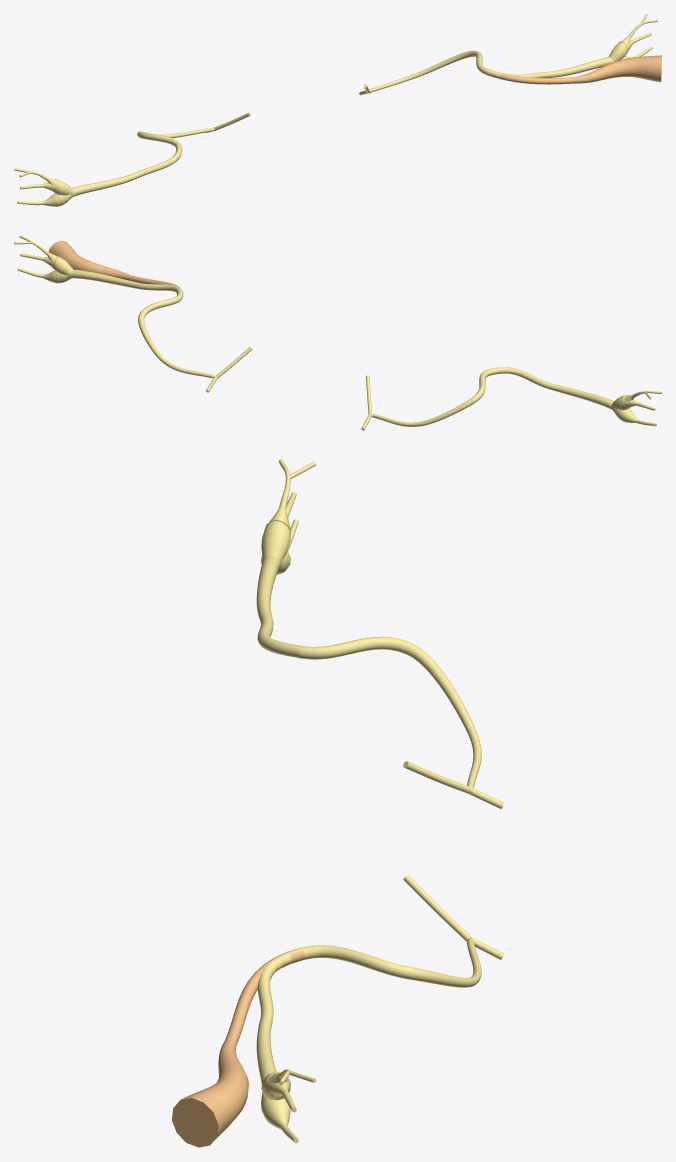
File: vestibular-context-balanced.glb
The picture shows the model from 3 angles, top to bottom: view 1: azimuth 30°, elevation 25°; view 2: azimuth 150°, elevation 25°; view 3: azimuth 270°, elevation 25°; orthographic projection. The views are drawn at different scales.
Visible parts, largest first — view 1: za.cochlear-nerve-l, za.vestibular-nerve-r, za.vestibular-nerve-l, nerve.cn08.source-group.l, nerve.cn08.source-group.r; view 2: za.vestibular-nerve-l, za.vestibular-nerve-r, za.cochlear-nerve-l, nerve.cn08.source-group.l, nerve.cn08.source-group.r; view 3: za.cochlear-nerve-l, nerve.cn08.source-group.r, za.vestibular-nerve-r, za.vestibular-nerve-l, nerve.cn08.source-group.l.
Part boxes in pixels (bbox=[...]): za.cochlear-nerve-l: bbox=[493, 55, 661, 84]; za.vestibular-nerve-r: bbox=[14, 145, 182, 206]; za.vestibular-nerve-l: bbox=[486, 14, 657, 77]; nerve.cn08.source-group.l: bbox=[359, 50, 488, 95]; nerve.cn08.source-group.r: bbox=[137, 112, 250, 147]; za.vestibular-nerve-l: bbox=[14, 235, 183, 295]; za.vestibular-nerve-r: bbox=[491, 367, 661, 426]; za.cochlear-nerve-l: bbox=[48, 240, 179, 294]; nerve.cn08.source-group.l: bbox=[138, 293, 252, 392]; nerve.cn08.source-group.r: bbox=[361, 369, 492, 430]; za.cochlear-nerve-l: bbox=[172, 950, 304, 1147]; nerve.cn08.source-group.r: bbox=[299, 636, 503, 808]; za.vestibular-nerve-r: bbox=[256, 459, 316, 658]; za.vestibular-nerve-l: bbox=[256, 947, 316, 1143]; nerve.cn08.source-group.l: bbox=[301, 875, 503, 987].
Bounding box in the file's own units: 0.0811 × 0.00693 × 0.0183.
